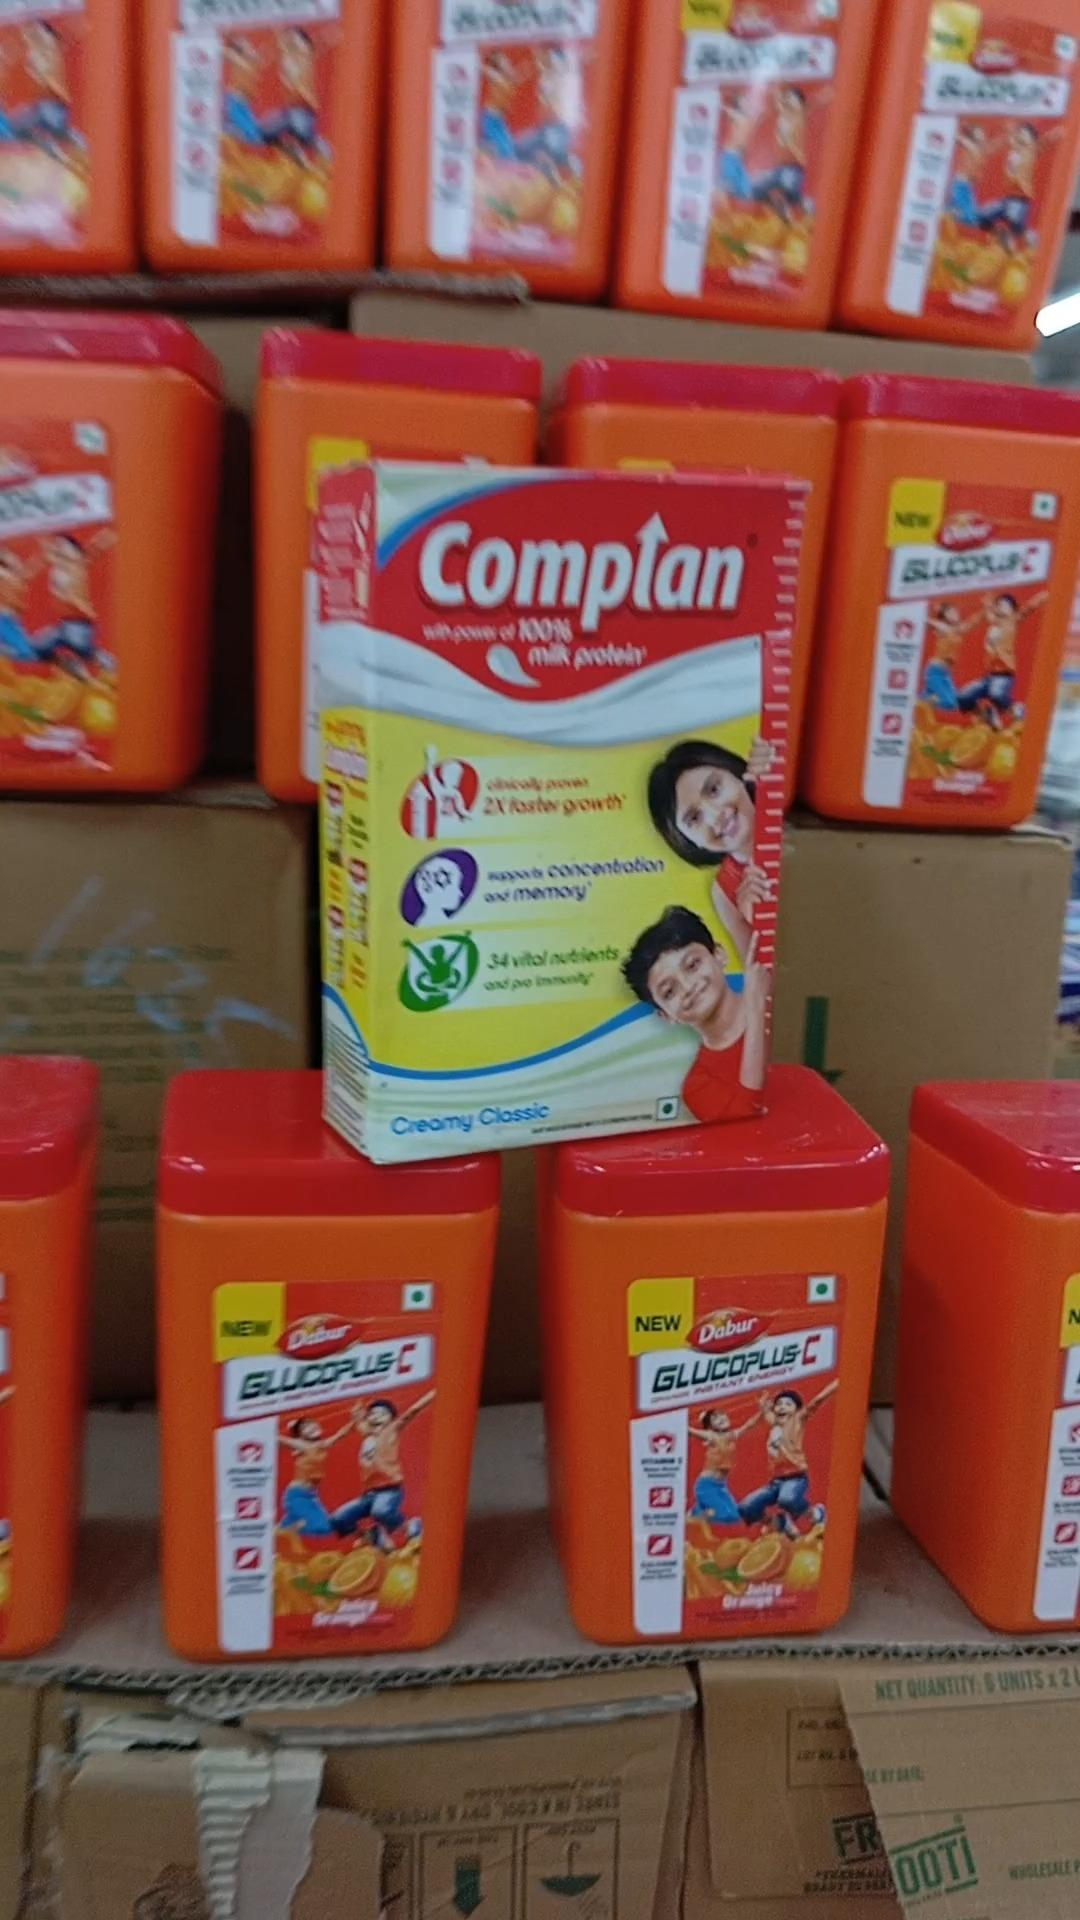COMPLAN_CREAMY_CLASSIC_500_G_PACK: (371, 462, 775, 1141)
